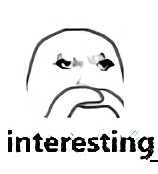dragon: (52, 49, 116, 86)
